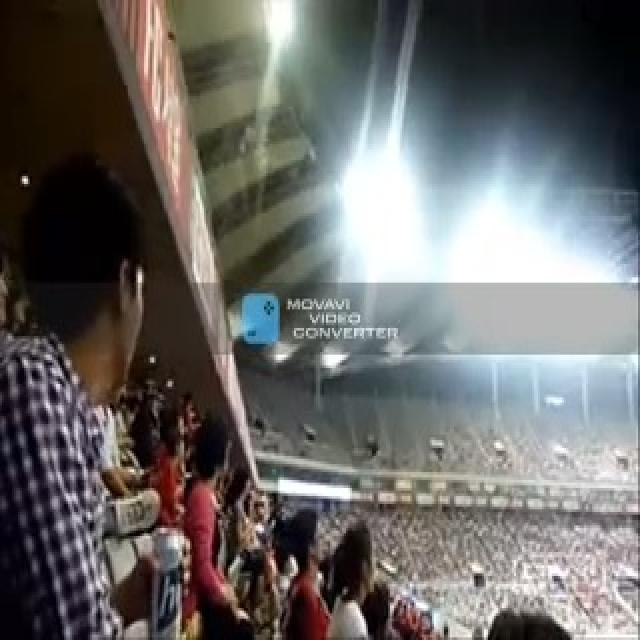non-voilence: (0, 150, 182, 638), (282, 293, 400, 344), (148, 523, 184, 637)
